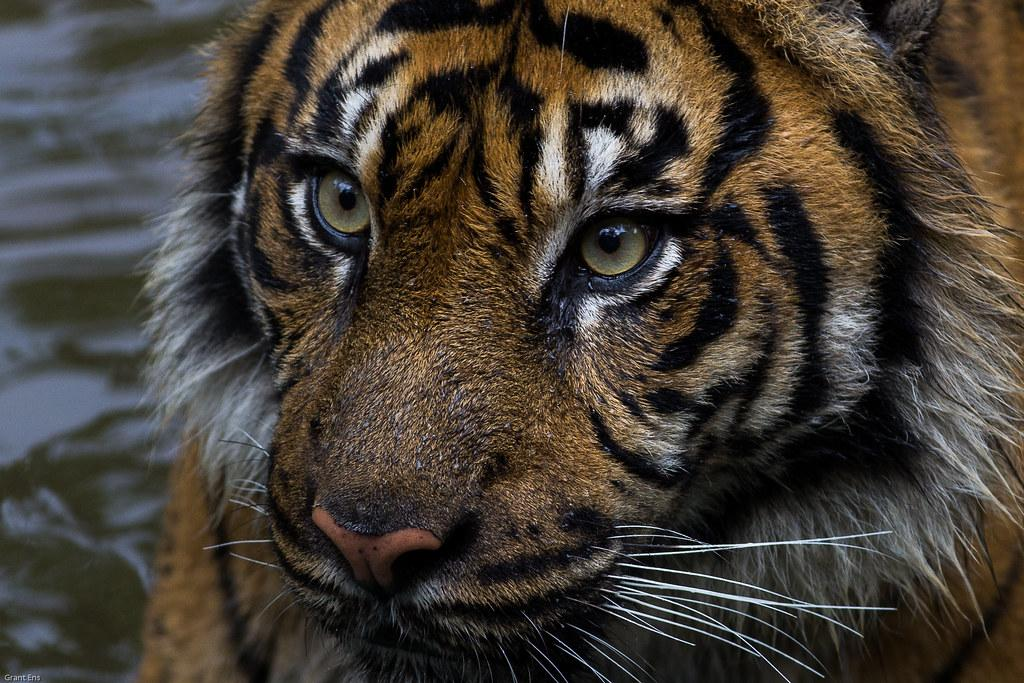tiger: (133, 1, 1022, 682)
